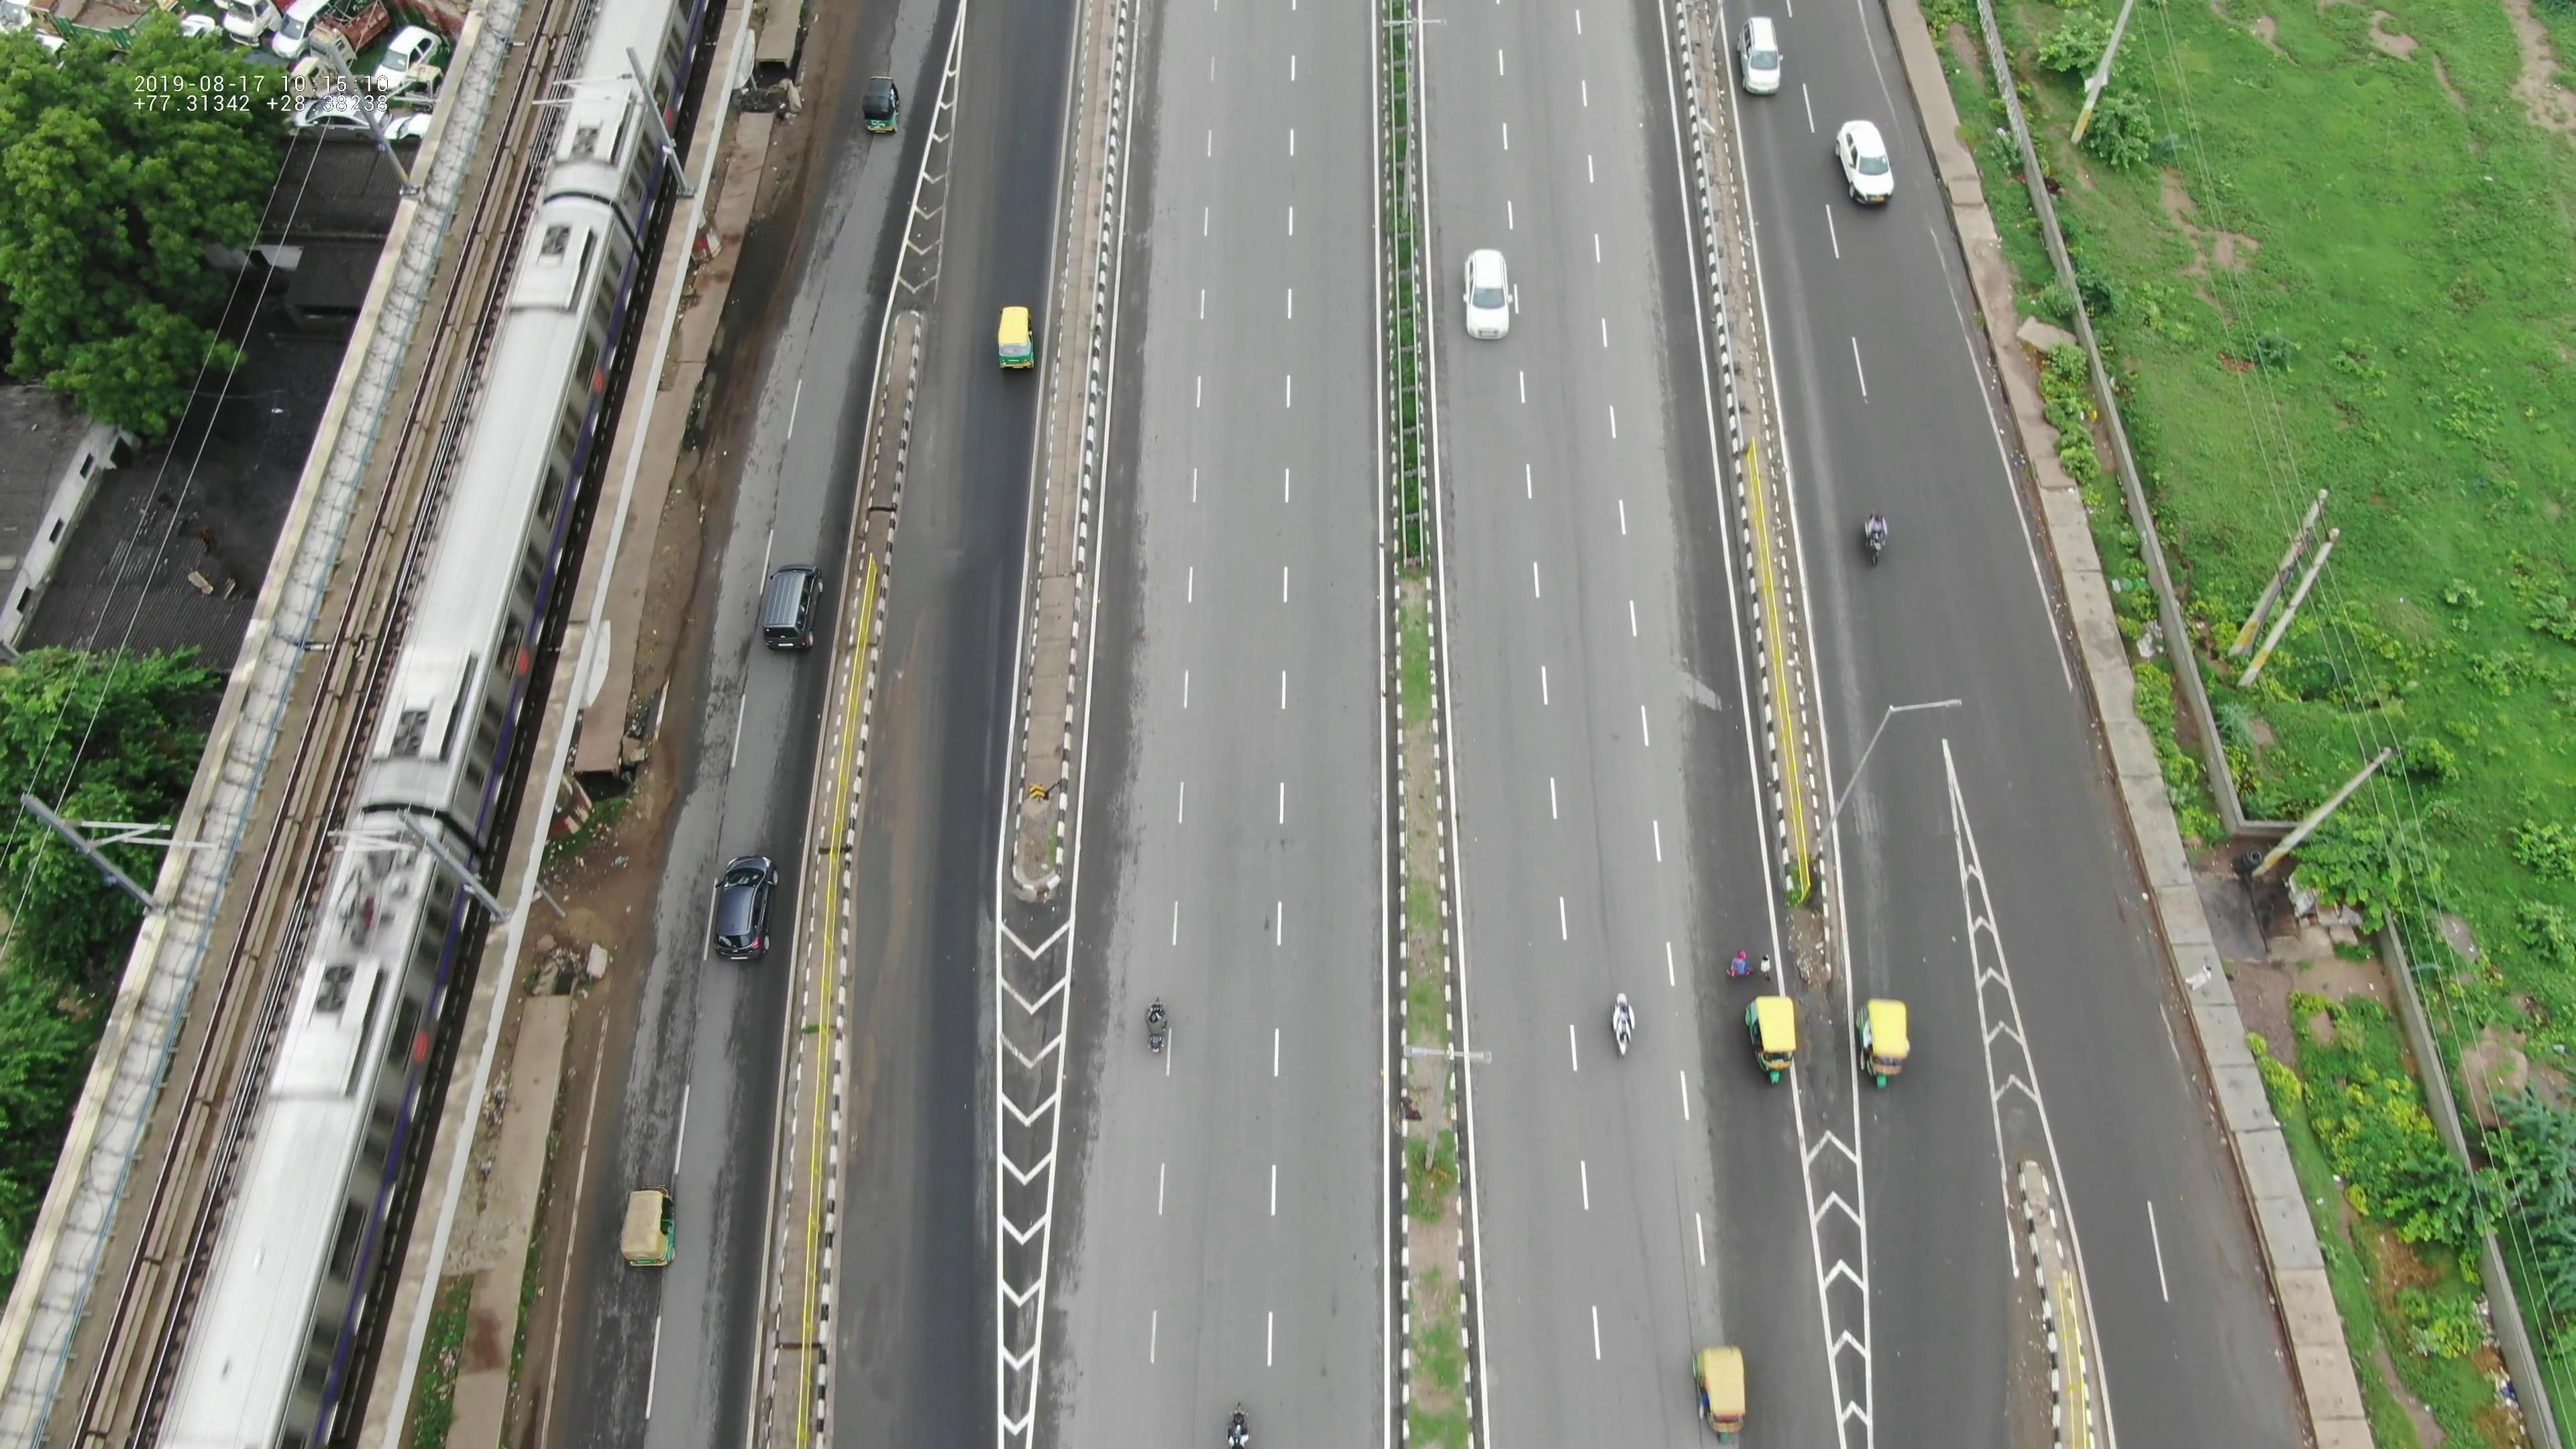Ravelling: (1566, 580, 1626, 948)
Waterlogging: (869, 694, 938, 1076)
